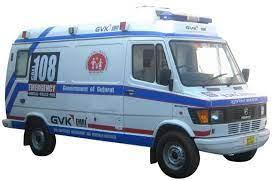ER: (3, 10, 270, 177)
